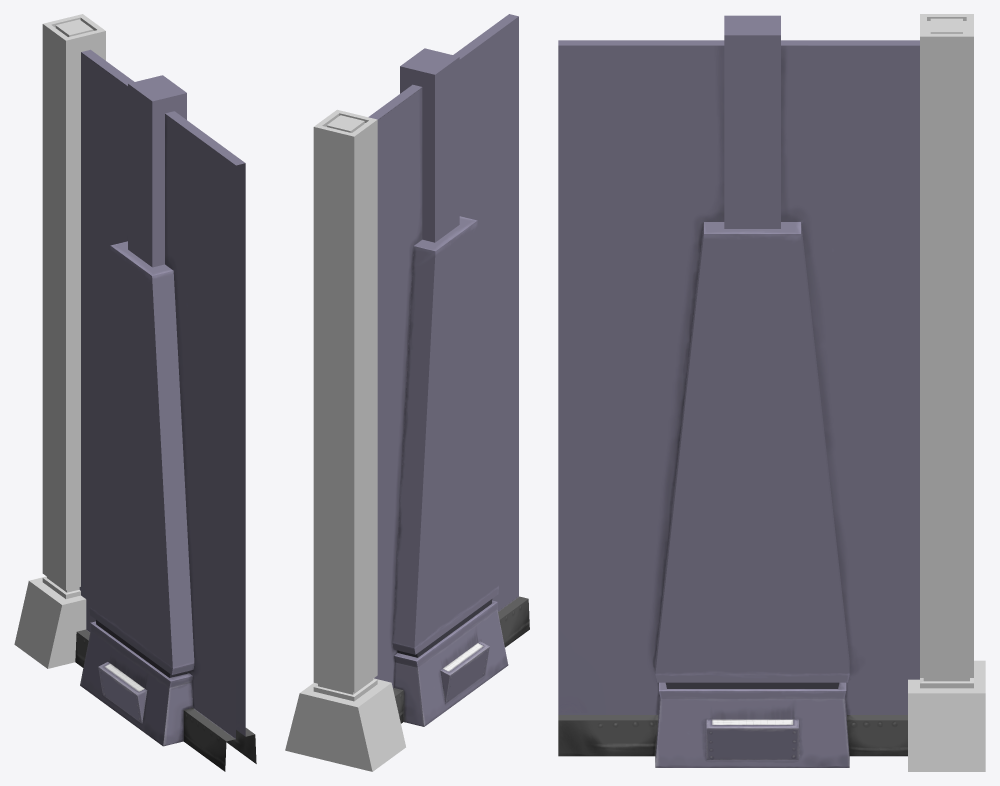
Rendered from wall01.fbx.
The picture shows the model from 3 angles, left to right: view 1: azimuth 30°, elevation 25°; view 2: azimuth 150°, elevation 25°; view 3: azimuth 270°, elevation 25°; orthographic projection. The views are drawn at different scales.
Parts seen in each view (by area): view 1: wall, pillar; view 2: wall, pillar; view 3: wall, pillar.
Boxes of the visible parts, left/top/right/bottom form: wall: left=75, top=49, right=256, bottom=771; pillar: left=14, top=14, right=105, bottom=668; wall: left=368, top=14, right=529, bottom=726; pillar: left=285, top=109, right=405, bottom=771; wall: left=558, top=15, right=919, bottom=767; pillar: left=908, top=14, right=985, bottom=771.
Bounding box in the file's own units: 0.6 × 4.1 × 2.2.
Materials: 1 (1 with a texture image).
